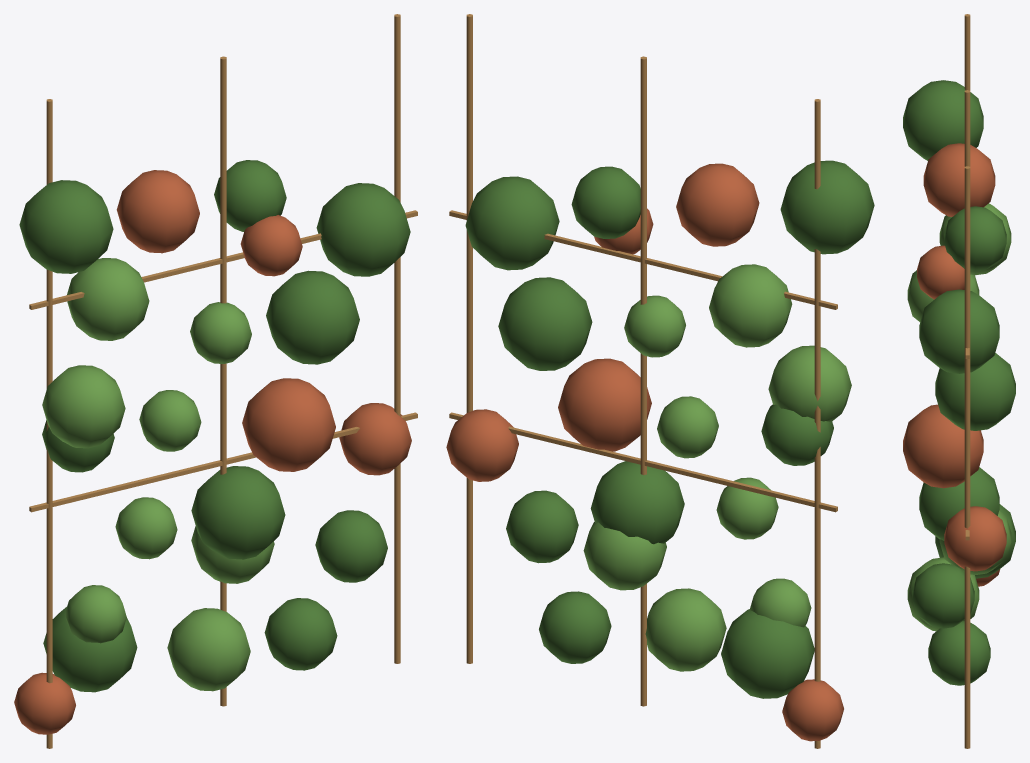
Rendered from tomato_trellis.glb.
3 views of the same model, side by side, from view 1: azimuth 30°, elevation 25°; view 2: azimuth 150°, elevation 25°; view 3: azimuth 270°, elevation 25° (orthographic). The views are drawn at different scales.
Parts seen in each view (by area): view 1: tomato_trellis; view 2: tomato_trellis; view 3: tomato_trellis.
Part boxes in pixels (left/top/right/bottom): tomato_trellis: left=14, top=14, right=417, bottom=748; tomato_trellis: left=446, top=14, right=874, bottom=748; tomato_trellis: left=903, top=14, right=1015, bottom=748.
Size of the model in its own units: 1.05 by 1.6 by 0.2816.
